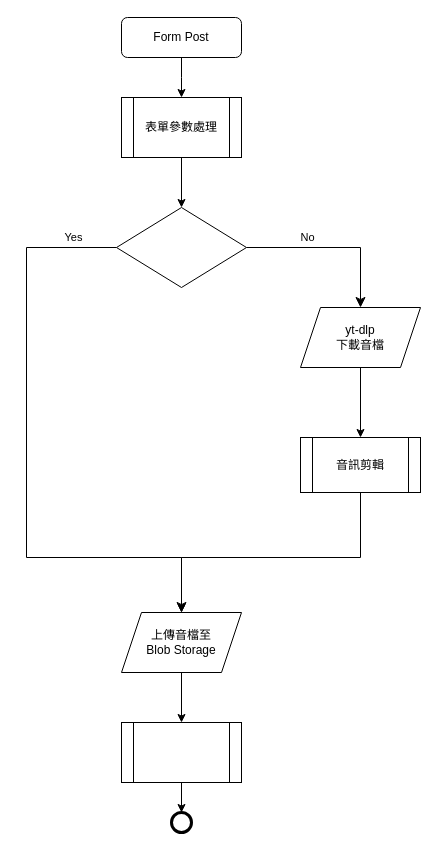
The diagram is 438 pixels wide and 850 high, and some of its shapes have lost their labels. The centre of each missing label's shape, as x and y in pixels:
"修改json檔 產生聲音按鈕" goes at (x=181, y=752).
"表單中有上傳音檔?" goes at (x=181, y=247).
